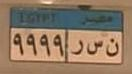9: (26, 33, 39, 57), (13, 33, 25, 56), (54, 32, 64, 59), (40, 33, 49, 57)
noon: (105, 37, 121, 57)
raa: (71, 39, 84, 57)
seen: (85, 39, 104, 56)
